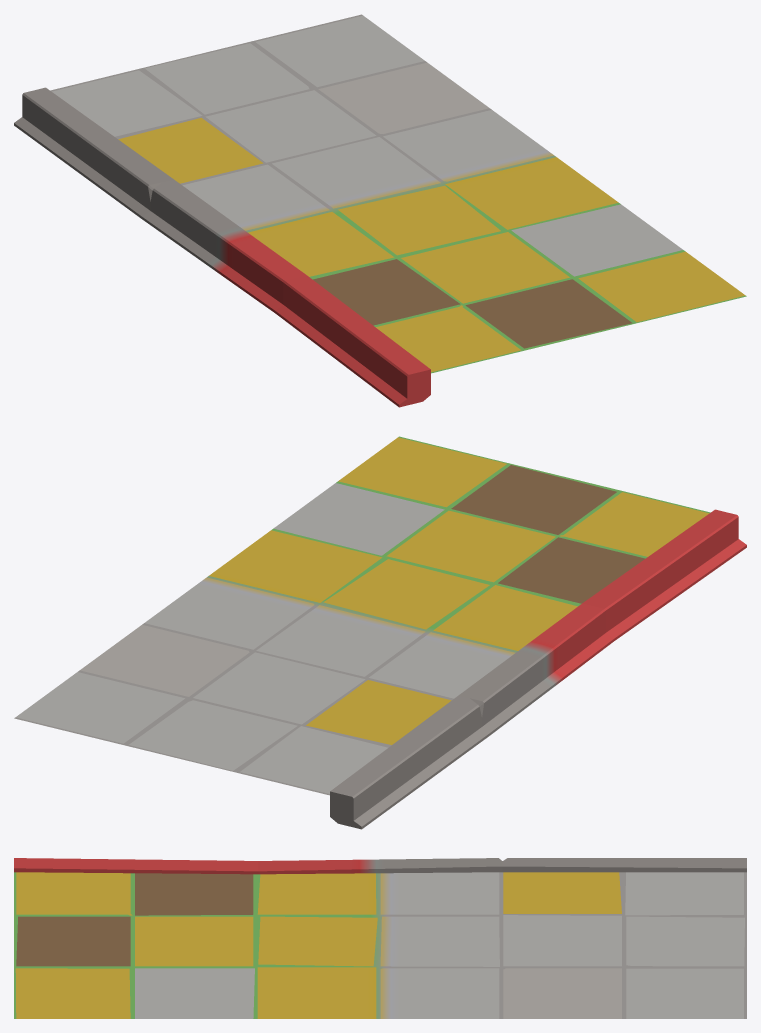
The picture shows the model from 3 angles, top to bottom: view 1: azimuth 30°, elevation 25°; view 2: azimuth 150°, elevation 25°; view 3: azimuth 270°, elevation 25°; orthographic projection. The views are drawn at different scales.
Visible parts, largest first — view 1: sidewalk; view 2: sidewalk; view 3: sidewalk.
Part boxes in pixels (x1,y1,x2,y2): sidewalk: [14, 14, 746, 407]; sidewalk: [14, 436, 746, 829]; sidewalk: [14, 858, 746, 1018].
Size of the model in its own units: 626 by 57.06 by 1200.
